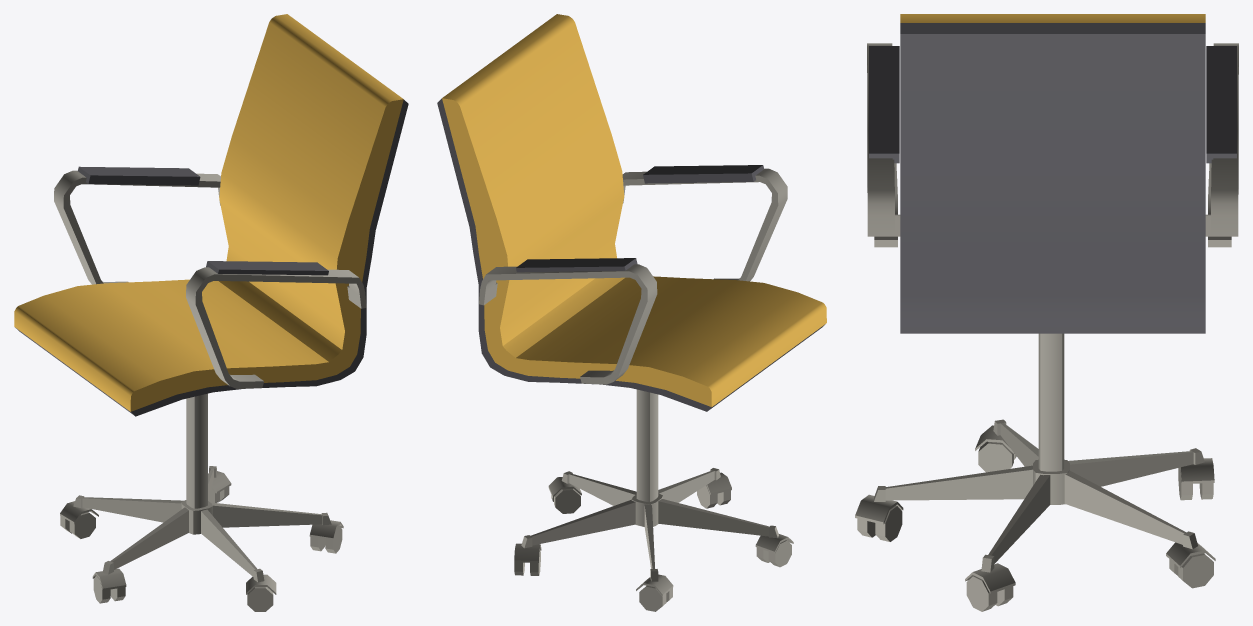
Rendered from Office_Chair.fbx.
3 views of the same model, side by side, from view 1: azimuth 30°, elevation 25°; view 2: azimuth 150°, elevation 25°; view 3: azimuth 270°, elevation 25° (orthographic). The views are drawn at different scales.
Parts seen in each view (by area): view 1: Office_Chair; view 2: Office_Chair; view 3: Office_Chair.
Part boxes in pixels (<box>): Office_Chair: <box>14,14,408,611</box>; Office_Chair: <box>437,14,826,611</box>; Office_Chair: <box>855,14,1238,611</box>.
Bounding box in the file's own units: 73.66 × 118 × 67.13.
